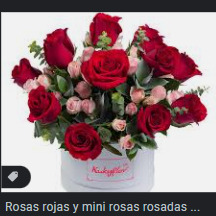RedRose: (82, 48, 131, 92), (173, 88, 209, 133), (39, 27, 75, 70), (65, 124, 101, 163), (25, 87, 62, 124), (88, 12, 122, 47), (137, 103, 170, 137), (135, 22, 163, 56), (10, 54, 37, 83)
